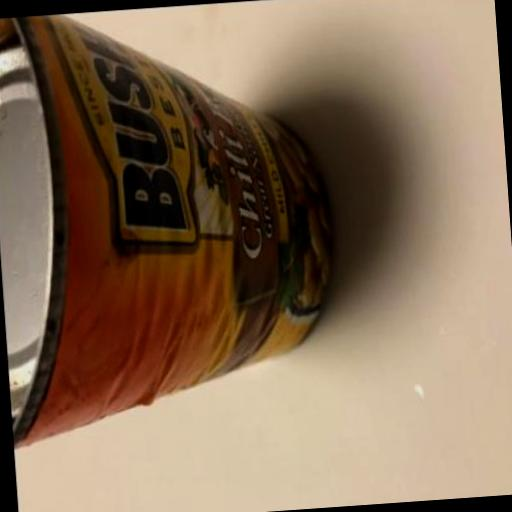metal: (0, 0, 343, 447)
